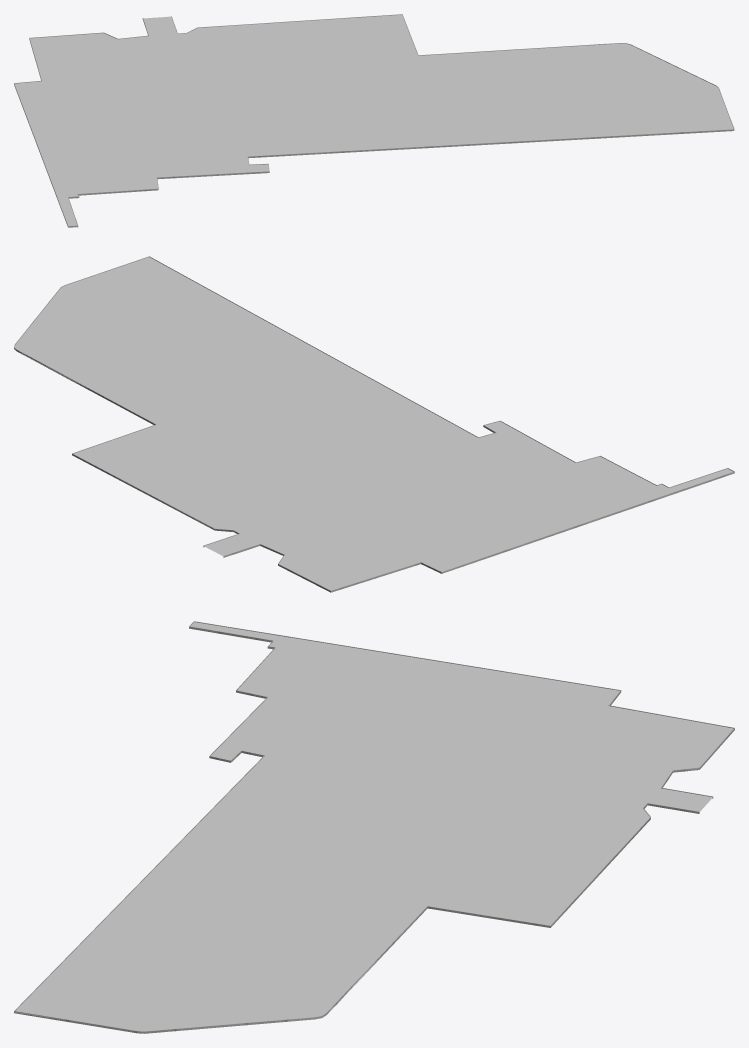
The model's file is road_p01_01.fbx.
The picture shows the model from 3 angles, top to bottom: view 1: azimuth 30°, elevation 25°; view 2: azimuth 150°, elevation 25°; view 3: azimuth 270°, elevation 25°; orthographic projection. The views are drawn at different scales.
Parts seen in each view (by area): view 1: road_p01_01; view 2: road_p01_01; view 3: road_p01_01.
Boxes of the visible parts, x1,y1,x2,y2 form: road_p01_01: [14, 14, 734, 227]; road_p01_01: [14, 256, 734, 592]; road_p01_01: [14, 621, 734, 1033].
Size of the model in its own units: 29293 by 70 by 21738.
